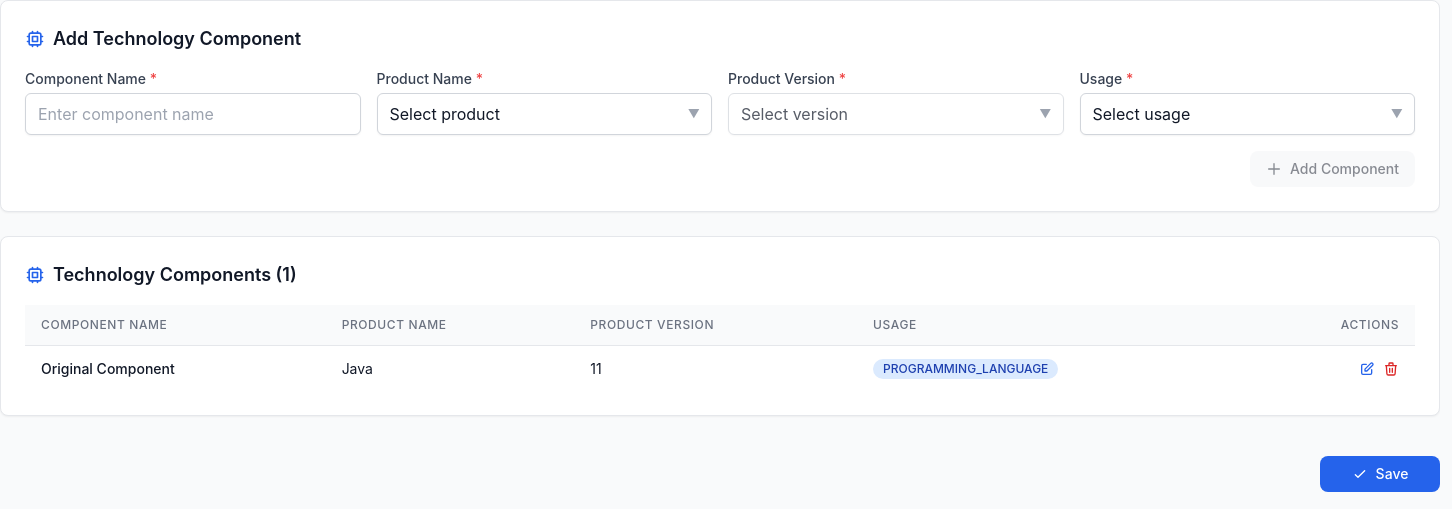
Test: TechnologyComponentStep › Edit Functionality › saves edited component when save button is clicked
The width and height of the screenshot is (1452, 509).
Step 1. Click the button named "Edit" → (1367, 368), box [1359,360,1375,376]
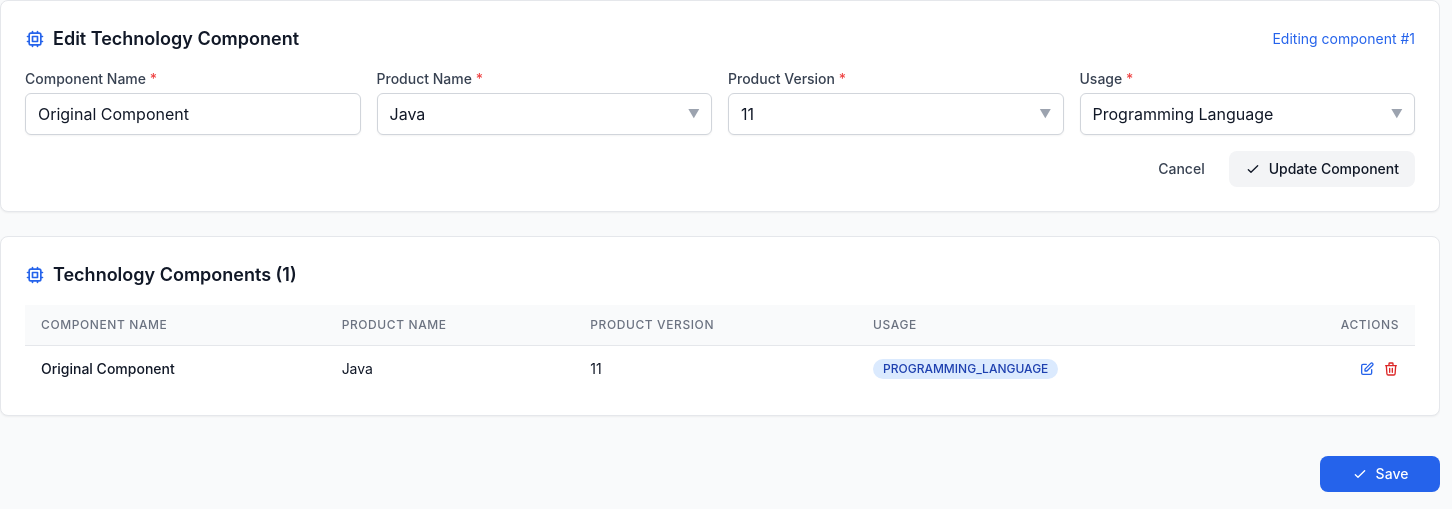
Step 2. Replace the text in the field showing "Original Component" with "Updated Component" → (193, 114), box [25,93,360,135]
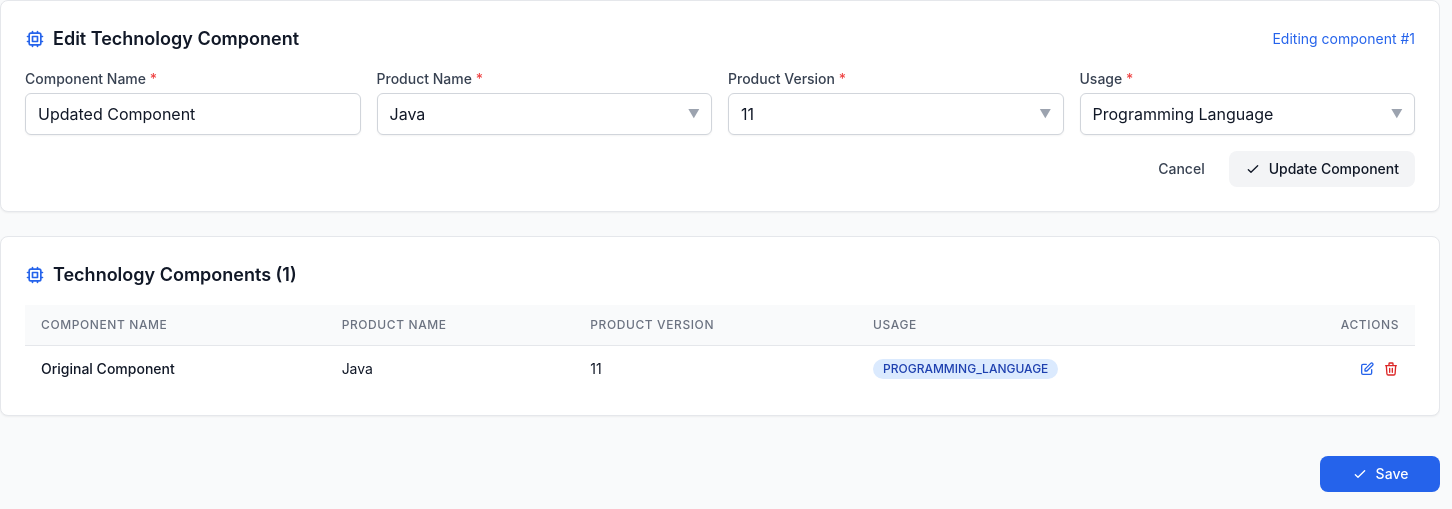
Step 3. Select "17" in the 2nd dropdown showing "11" → (896, 114), box [728,93,1064,135]
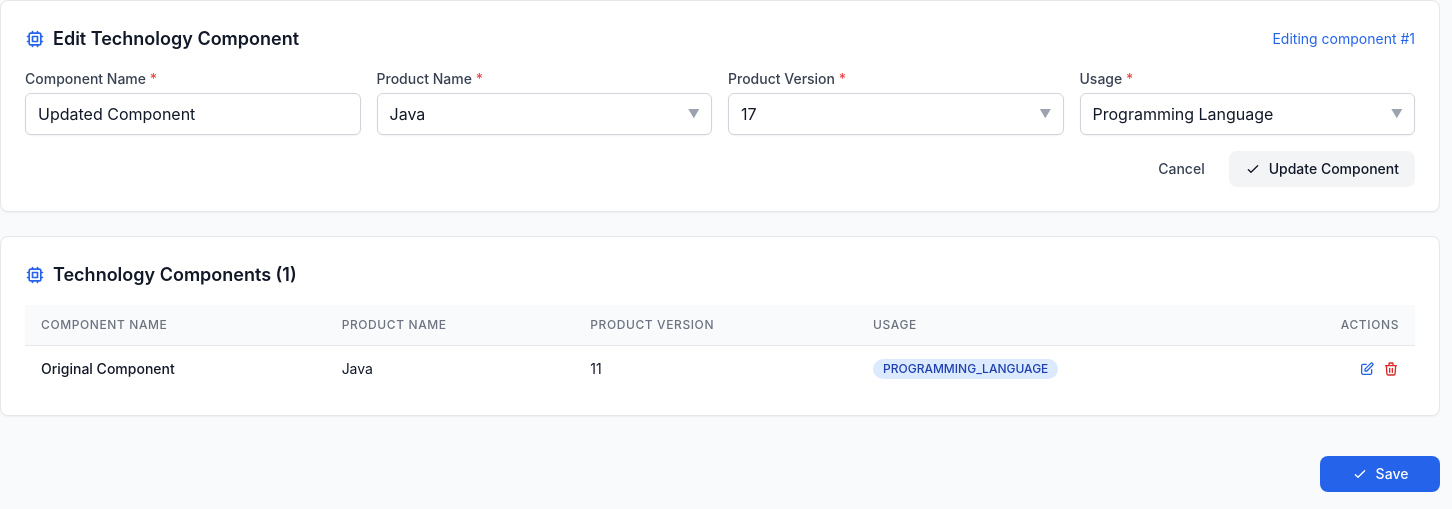
Save the changes
Step 4. Click the button "Update Component" → (1322, 169), box [1229,151,1415,187]
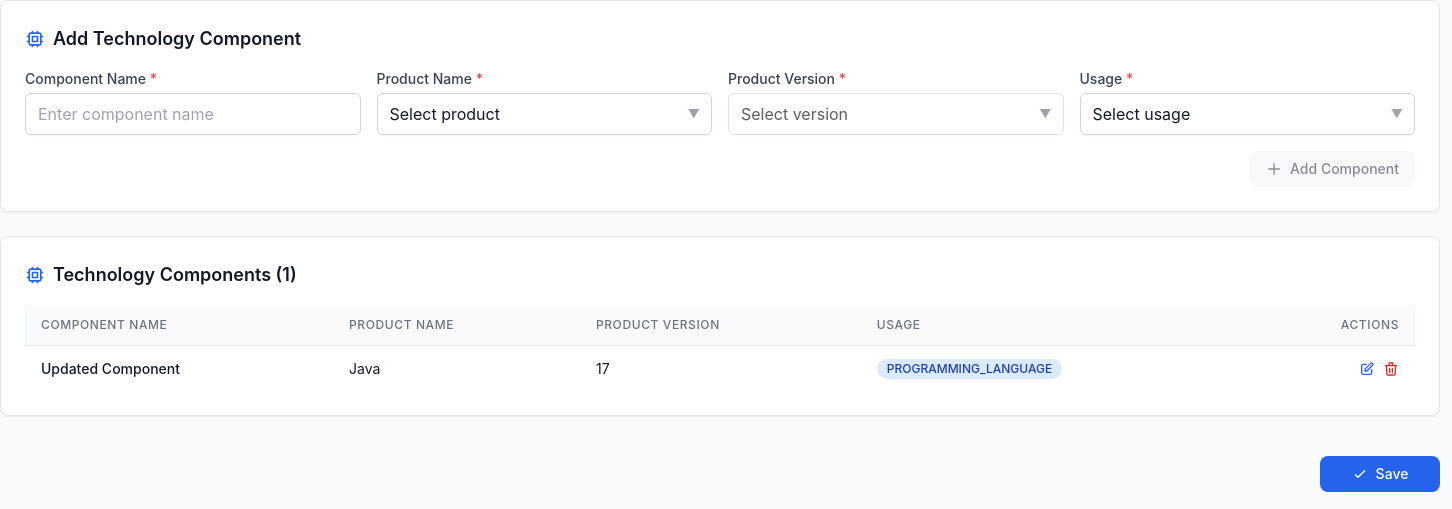
Check: the text "Updated Component" is shown, box [25,346,333,391]
Check: the text "17" is shown, box [580,346,861,391]
